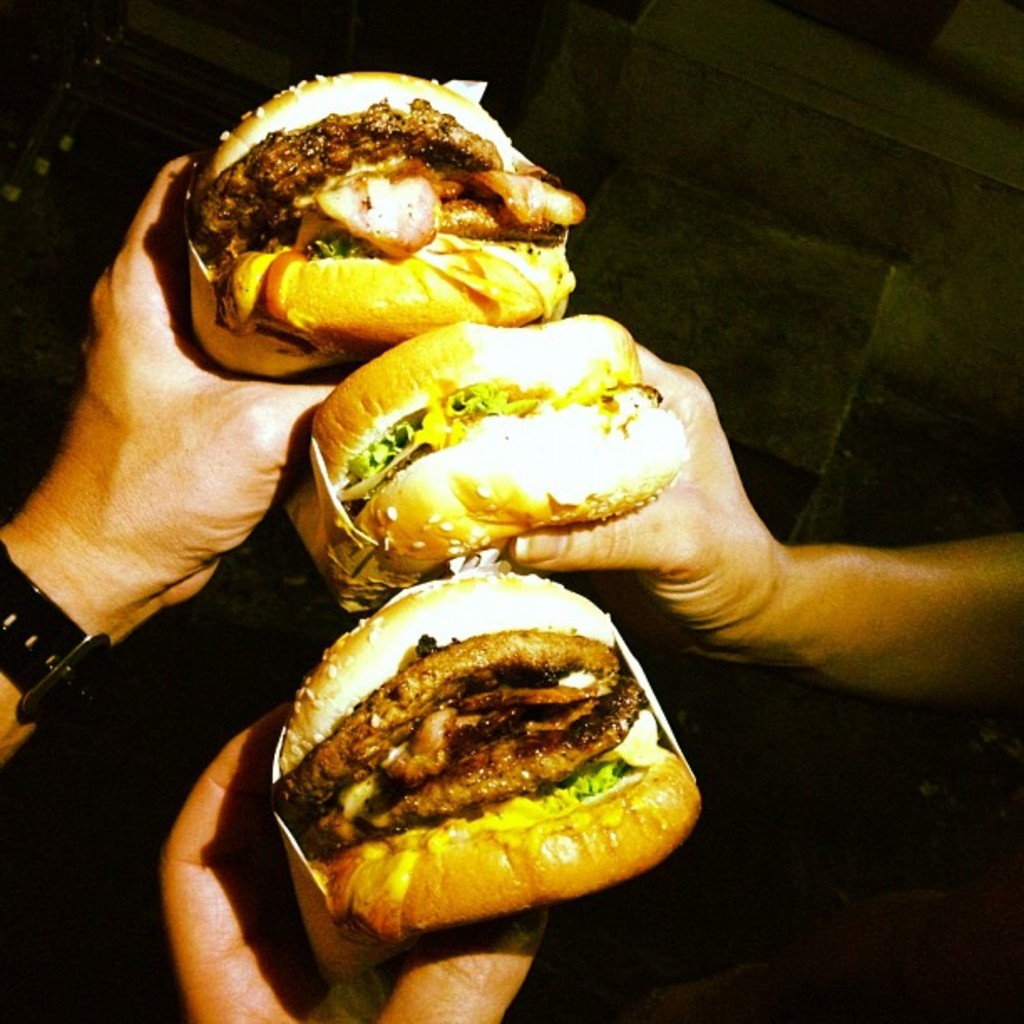Hamburger: (269, 577, 704, 935), (185, 75, 588, 359), (311, 322, 687, 575)
